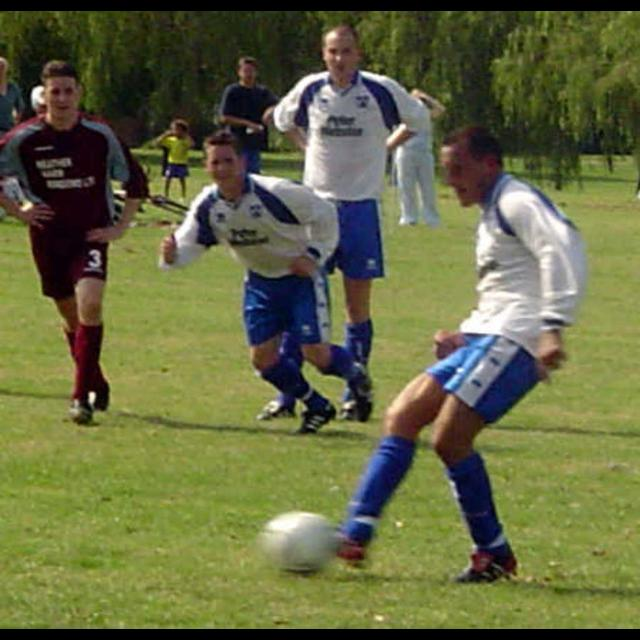Football: (259, 511, 337, 573)
